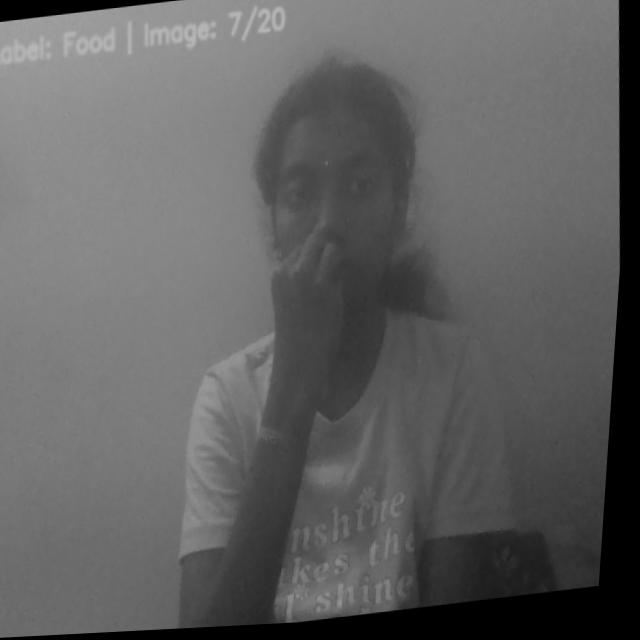Food: (260, 228, 377, 388)
